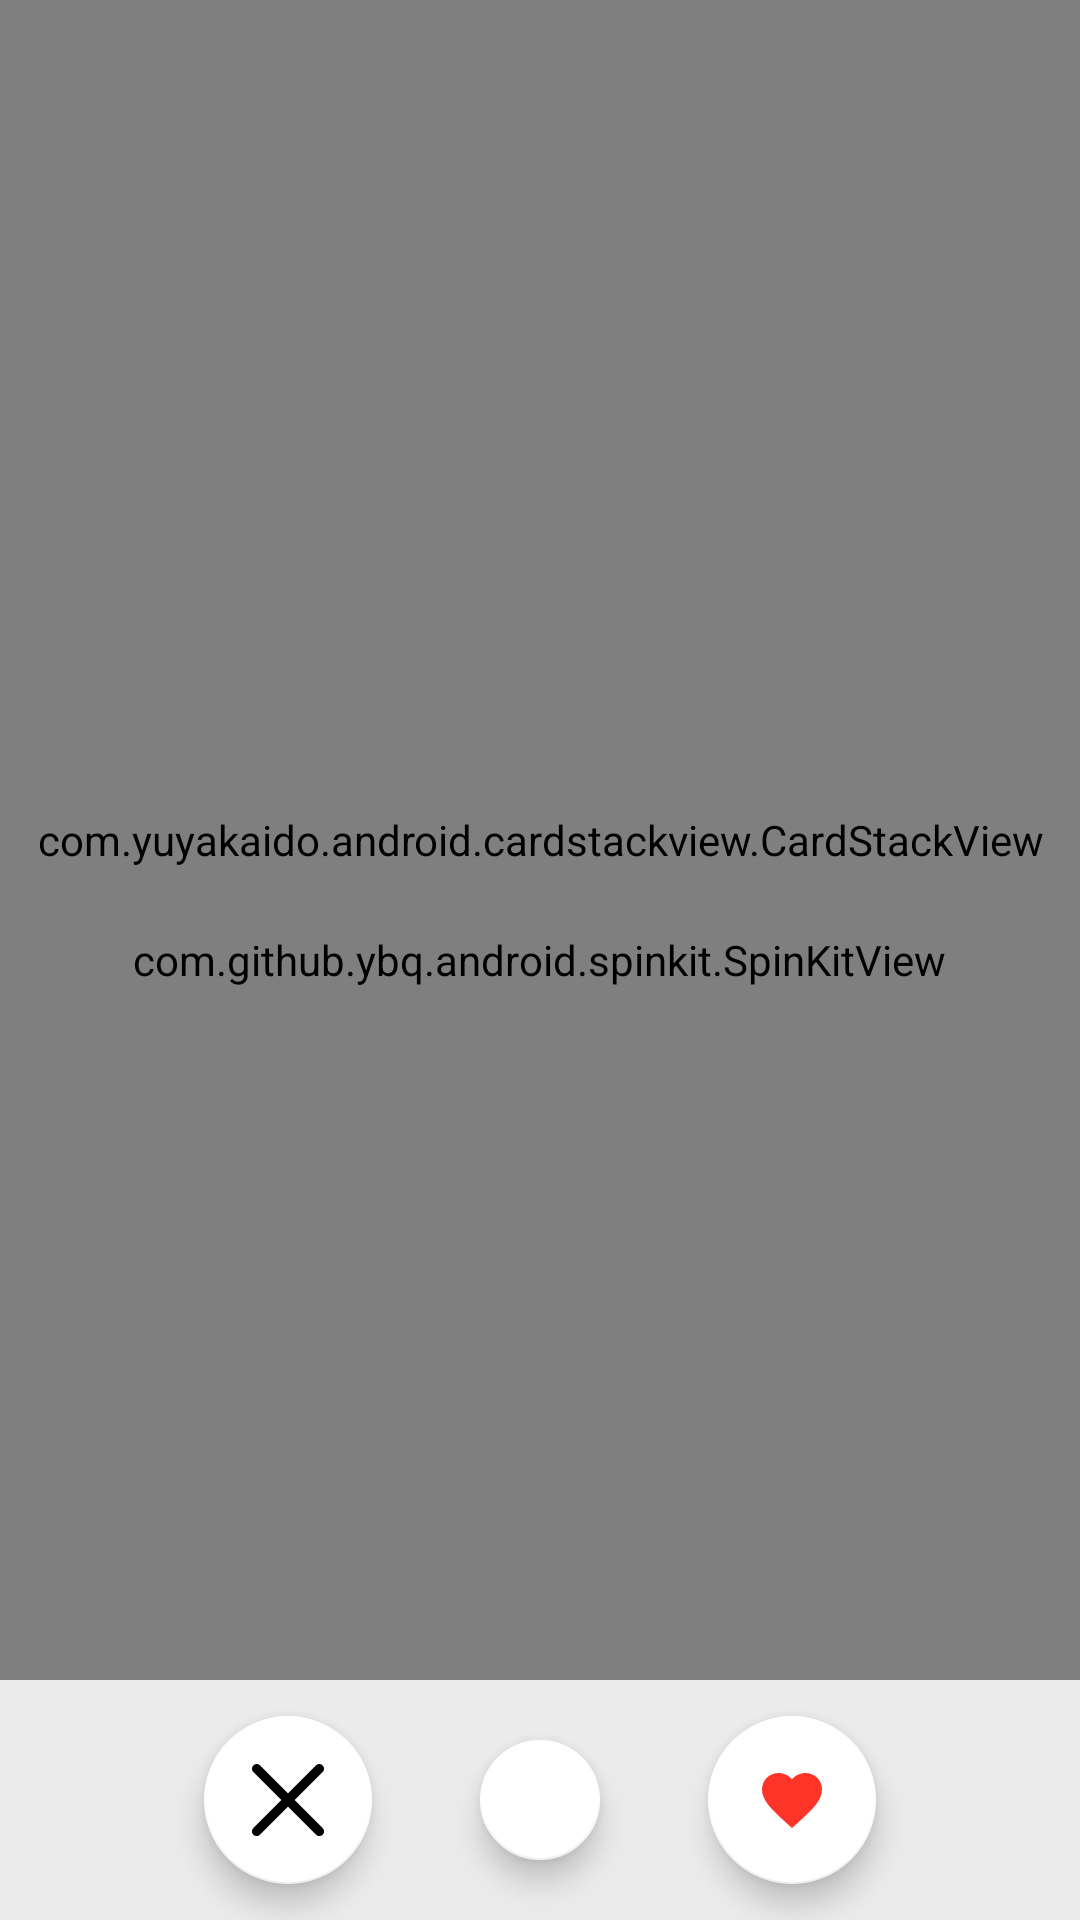

Icon bounding boxes for this 1080w x 1920h phone screenshot, format bbox=[x1, y1, x2, y2]:
Like Button: bbox=[708, 1716, 876, 1884]
Skip Button: bbox=[204, 1716, 372, 1884]
